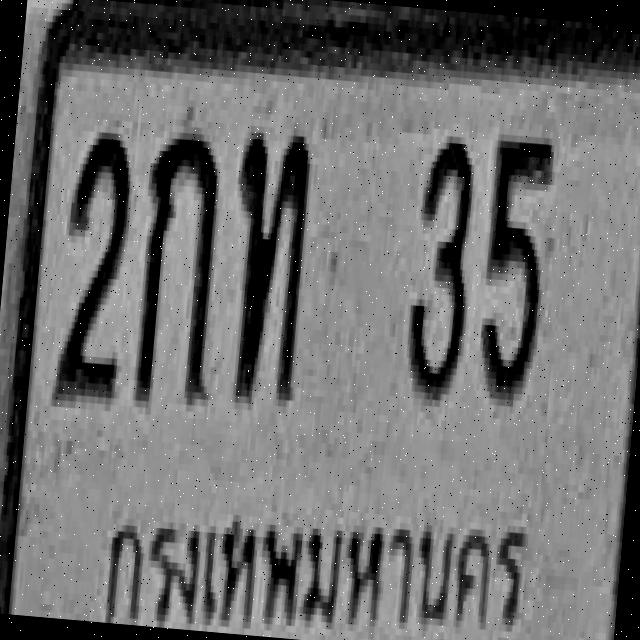10GorGai: (131, 124, 225, 406)
2: (53, 126, 135, 401)
3: (402, 134, 479, 402)
32ThorThaHan: (220, 124, 314, 400)
5: (474, 130, 554, 404)
Bangkok: (84, 468, 548, 640)
